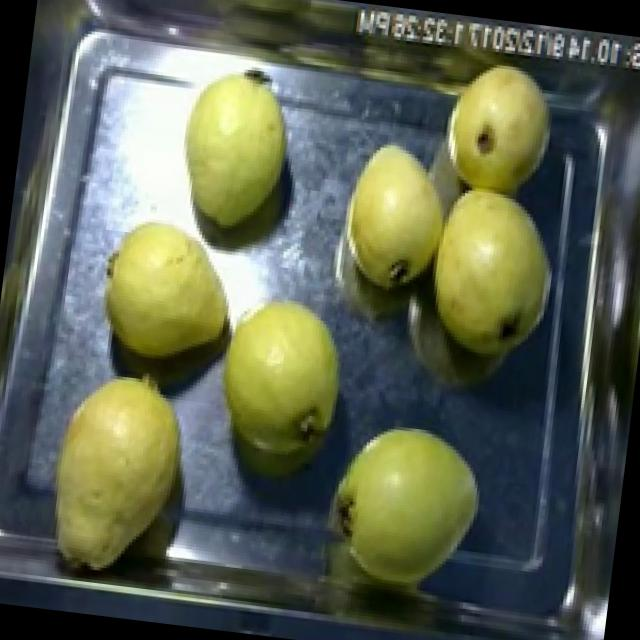Fruit: (24, 355, 207, 593), (188, 271, 366, 493), (313, 406, 497, 604), (406, 172, 572, 377), (157, 51, 319, 246), (79, 200, 252, 380), (320, 123, 478, 314), (426, 48, 568, 210)
